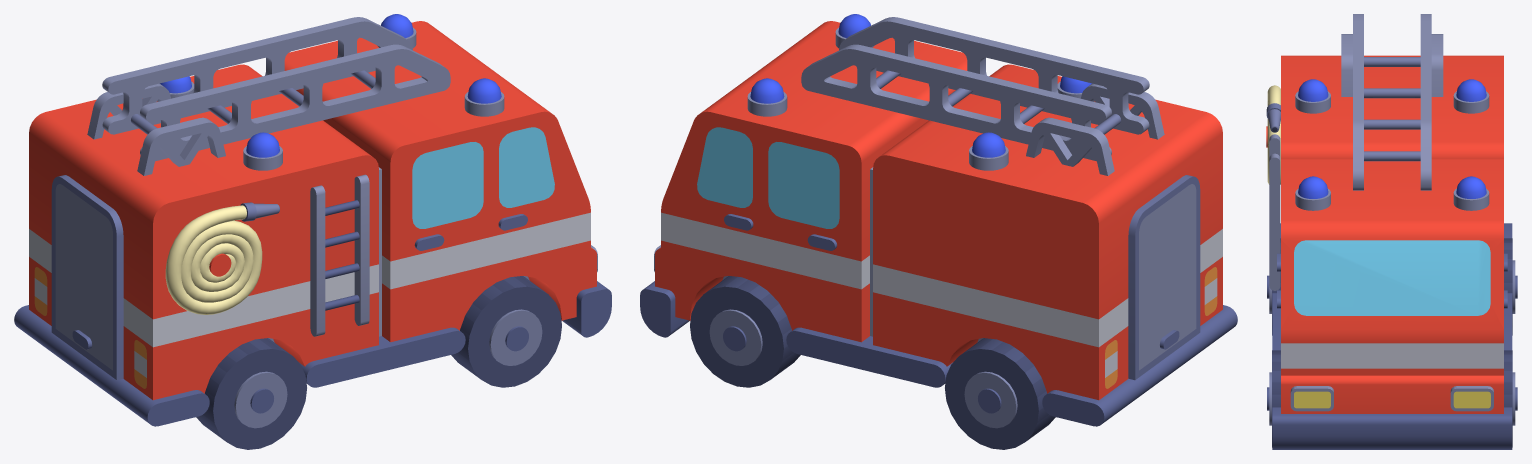
The model's file is Firetruck.fbx.
3 views of the same model, side by side, from view 1: azimuth 30°, elevation 25°; view 2: azimuth 150°, elevation 25°; view 3: azimuth 270°, elevation 25° (orthographic). The views are drawn at different scales.
Parts seen in each view (by area): view 1: Firetruck, extendable boom, Wheels 2, Wheels 1; view 2: Firetruck, extendable boom, Wheels 2, Wheels 1; view 3: Firetruck, extendable boom, Wheels 1, Wheels 2.
Part boxes in pixels (x1,y1,x2,y2): Firetruck: [14, 14, 611, 426]; extendable boom: [102, 17, 450, 161]; Wheels 2: [196, 338, 306, 449]; Wheels 1: [451, 276, 561, 387]; Firetruck: [640, 14, 1237, 426]; extendable boom: [801, 17, 1149, 161]; Wheels 2: [945, 338, 1055, 449]; Wheels 1: [690, 276, 800, 387]; Firetruck: [1266, 34, 1512, 449]; extendable boom: [1353, 14, 1431, 190]; Wheels 1: [1267, 350, 1517, 447]; Wheels 2: [1267, 238, 1517, 335].
Size of the model in its own units: 599 by 405 by 312.
